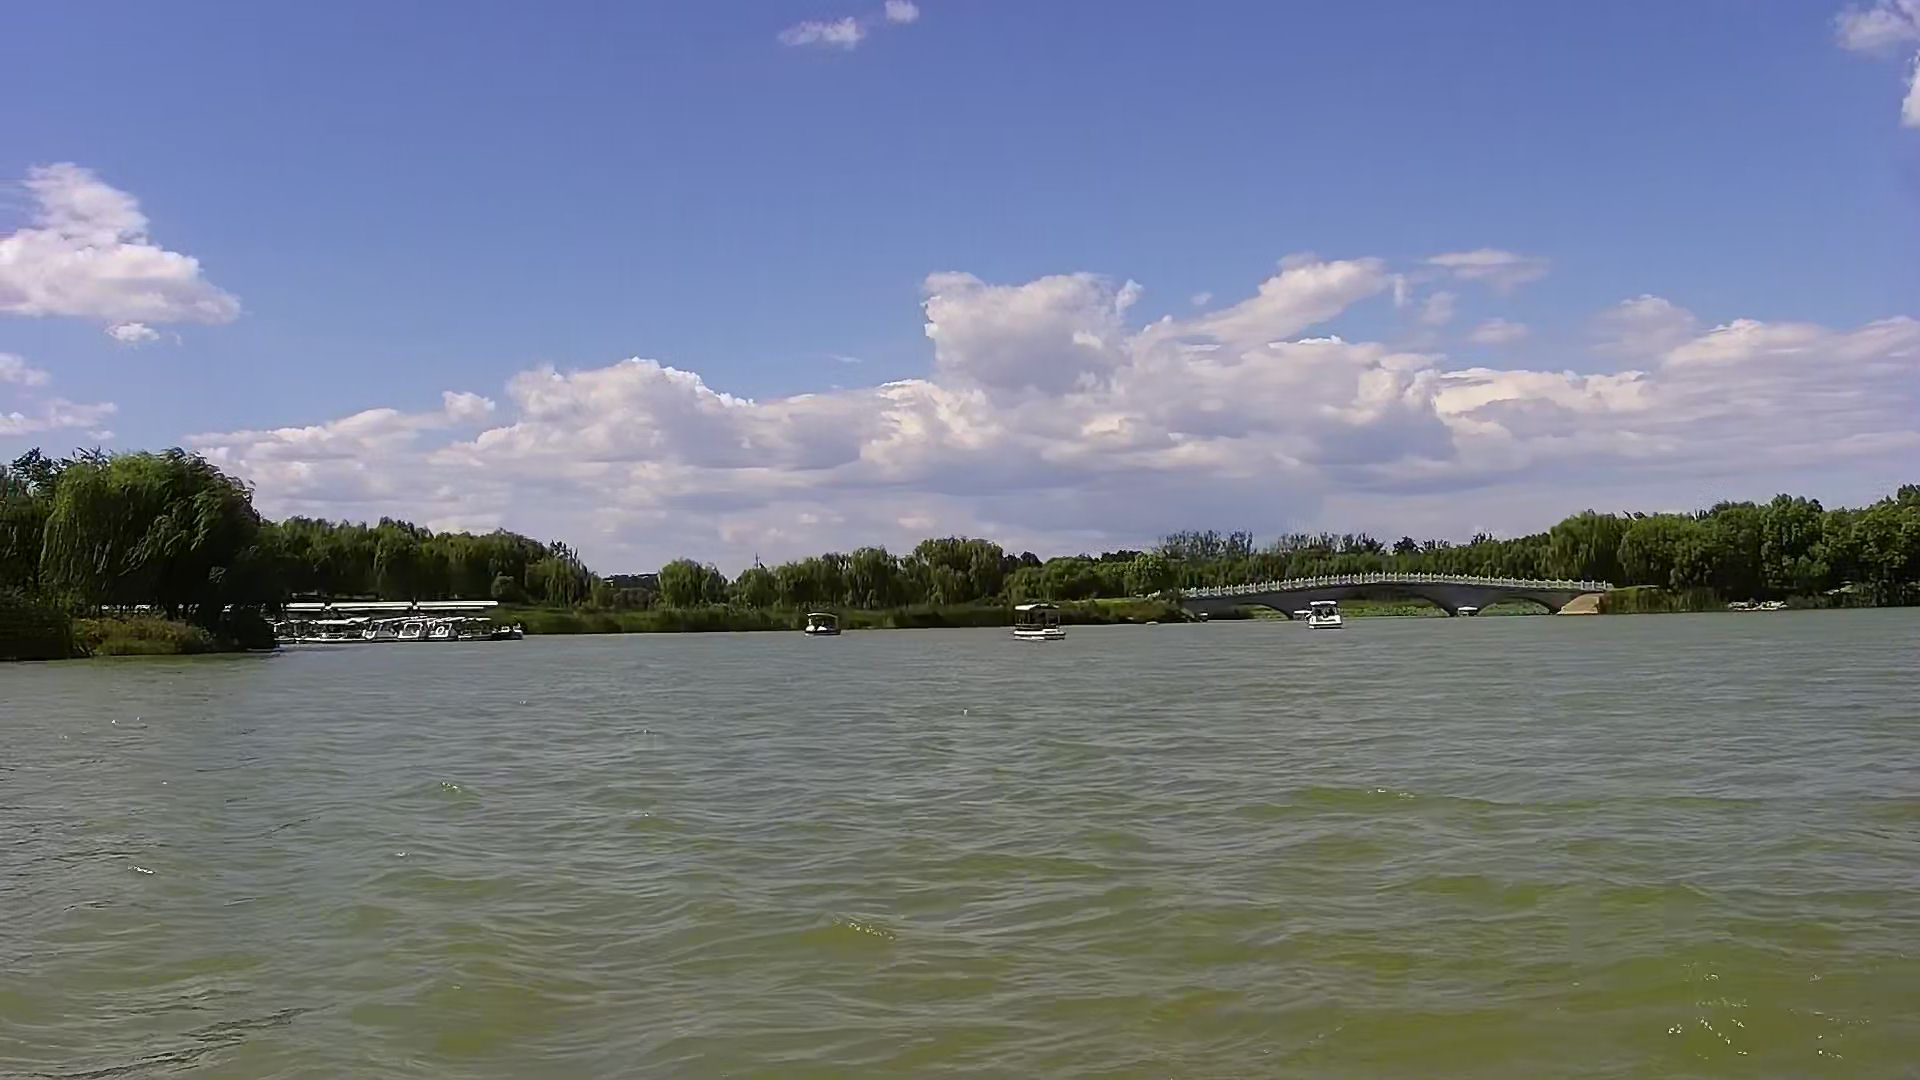boat: (1002, 596, 1080, 644), (1307, 596, 1345, 632), (800, 613, 851, 638)
bridge: (1178, 566, 1619, 622)
